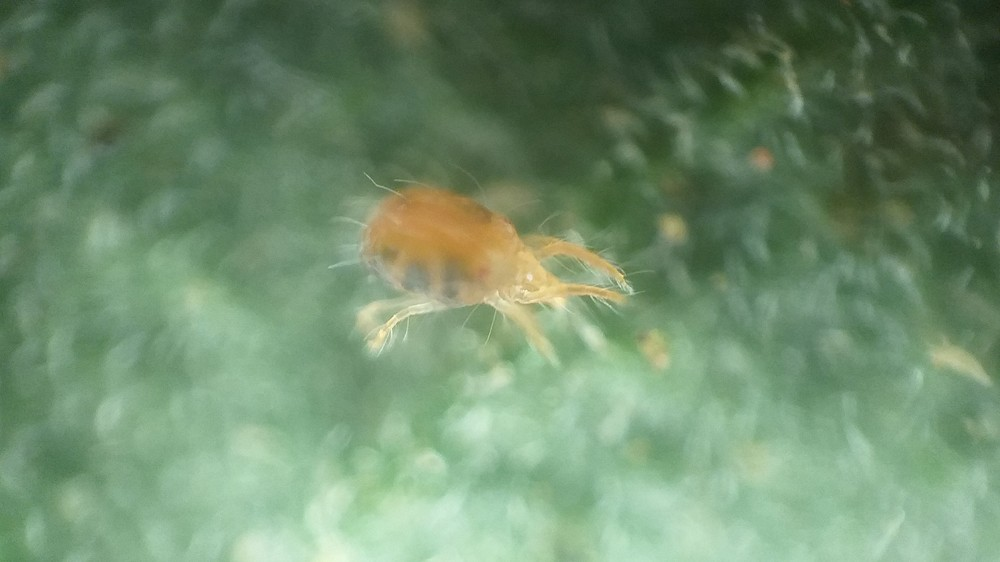Aracnido Rojo: (300, 141, 653, 395)
